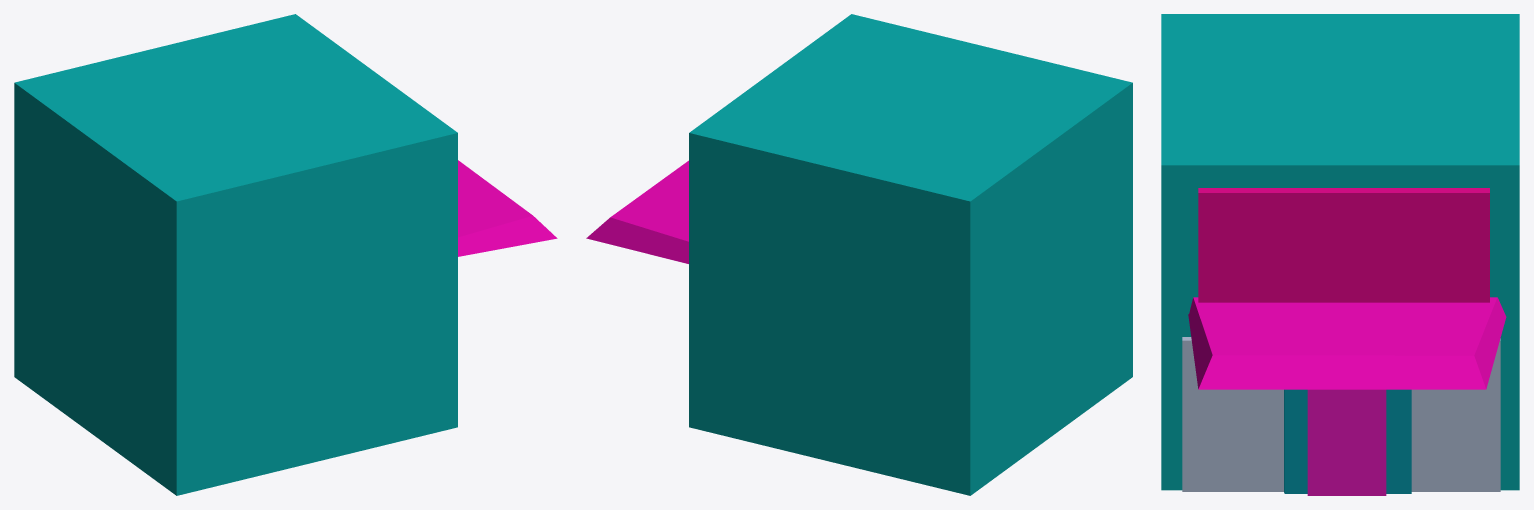
Rendered from olivers.fbx.
3 views of the same model, side by side, from view 1: azimuth 30°, elevation 25°; view 2: azimuth 150°, elevation 25°; view 3: azimuth 270°, elevation 25° (orthographic). The views are drawn at different scales.
Parts seen in each view (by area): view 1: Cube, Cube.002; view 2: Cube, Cube.002; view 3: Cube, Cube.001, Cube.002, Cube.003, Cube.006, Cube.004.
Boxes of the visible parts, x1,y1,x2,y2 form: Cube: (14,14,457,495); Cube.002: (458,160,557,256); Cube: (689,14,1132,495); Cube.002: (586,160,688,263); Cube: (1161,14,1519,490); Cube.001: (1198,188,1489,302); Cube.002: (1188,297,1506,389); Cube.003: (1182,337,1500,491); Cube.006: (1307,389,1386,495); Cube.004: (1284,389,1411,493).
Size of the model in its own units: 284 by 200 by 200.
